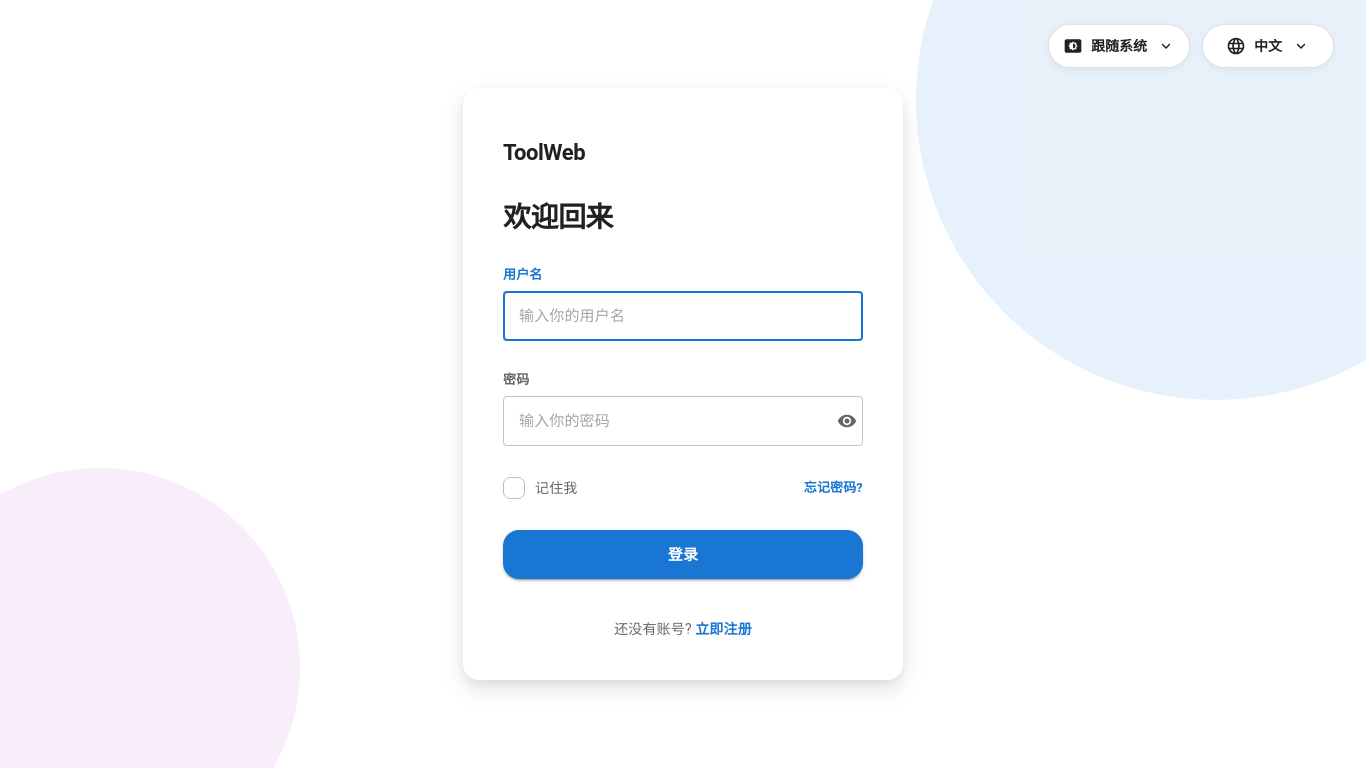
it: LoginPage › shows ApiError message when login fails
Expected: the password field with placeholder "输入你的密码" is shown, [503,396,824,446]
Expected: the submit button is shown, [503,530,863,579]
Type " rex " into the field with id "login-username". click: (683, 316)
box: [503,291,863,341]
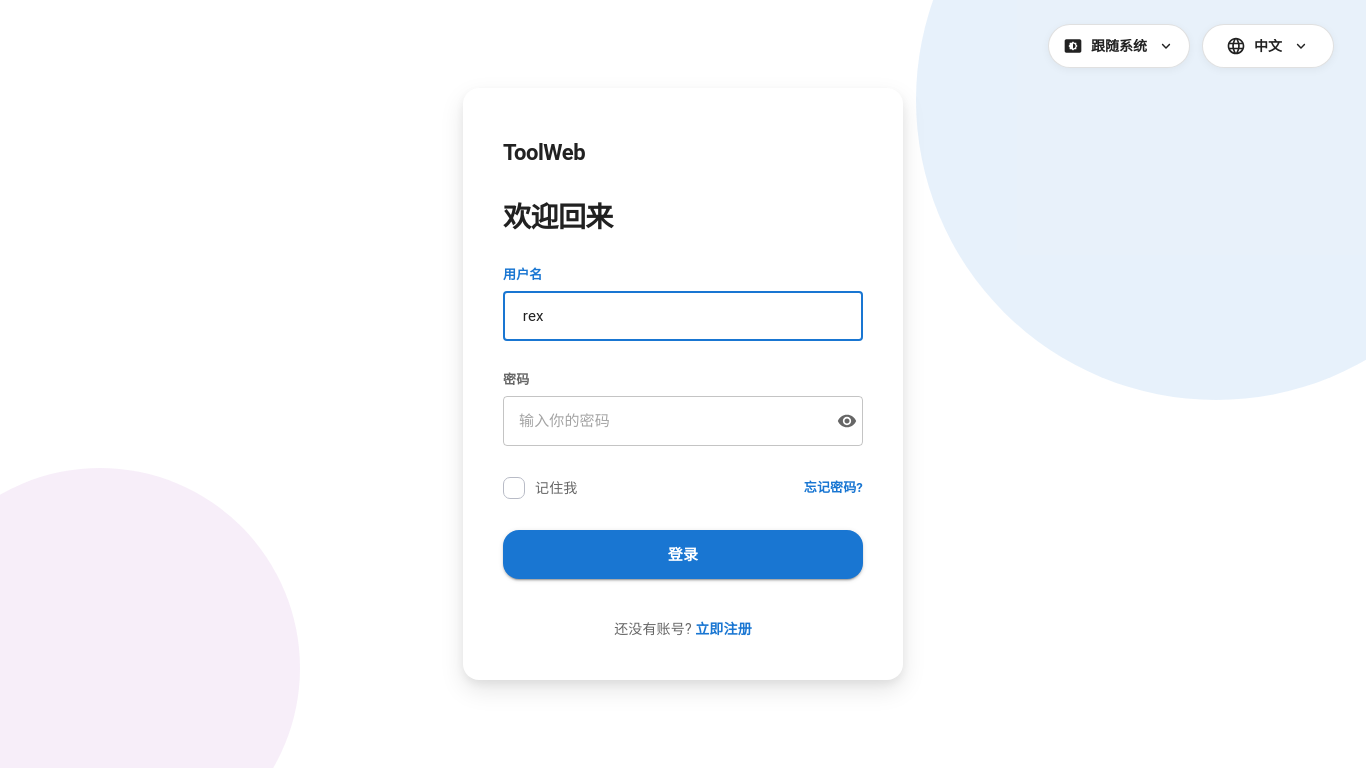
Type "secret" into the password field with placeholder "输入你的密码". click: (664, 421)
box: [503,396,824,446]
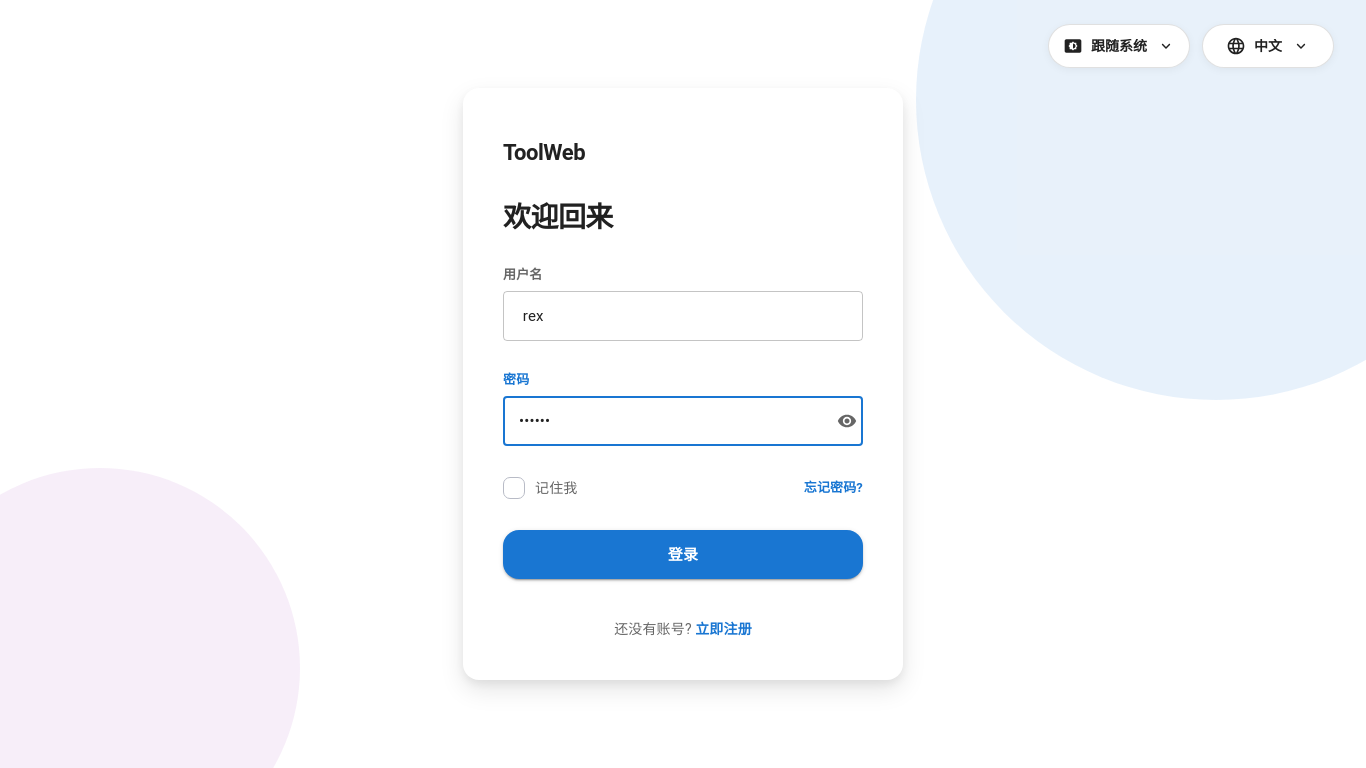
Click the submit button. click: (683, 555)
box: [503,530,863,579]
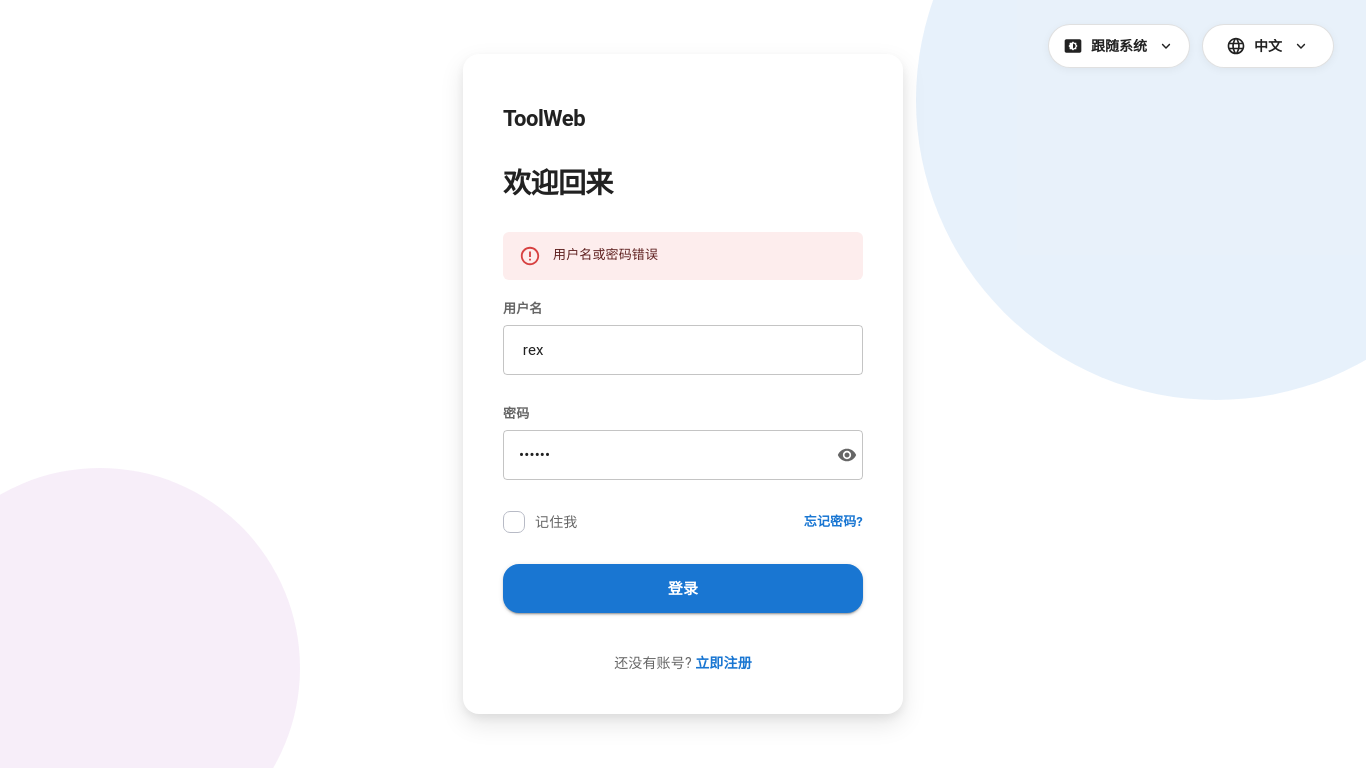
Result: the text "用户名或密码错误" is shown at [553,247,658,262]
